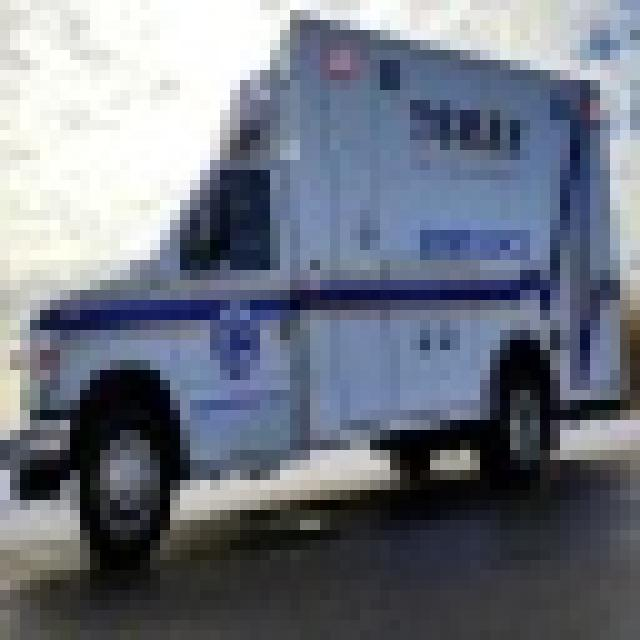Ambulance: (0, 0, 630, 570)
